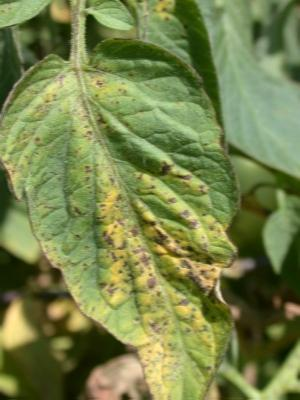Tomato leaf bacterial spot: (6, 26, 238, 399)
